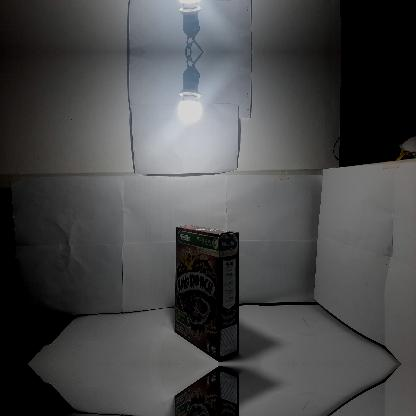Koko-Krunch: (174, 225, 238, 361), (174, 367, 239, 415)
